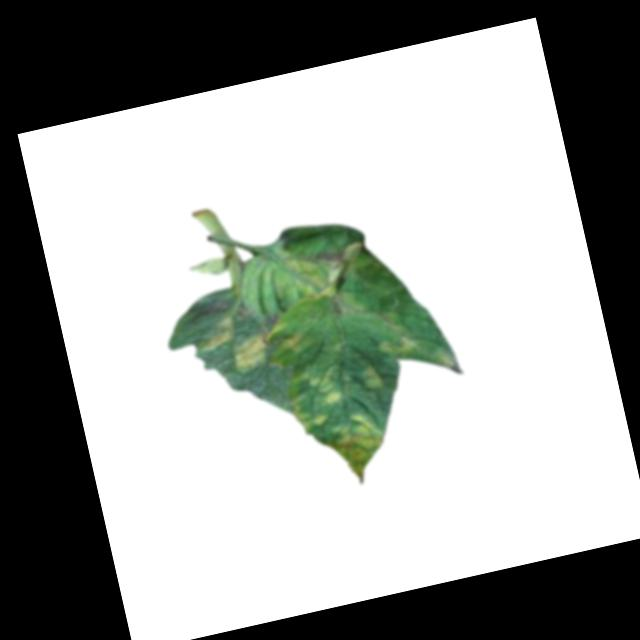Leaf_Mold: (319, 409, 392, 490), (194, 311, 272, 381), (274, 249, 333, 303), (369, 312, 417, 365), (304, 365, 341, 409), (274, 329, 313, 362)
